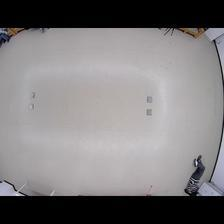fall: (183, 153, 206, 195)
